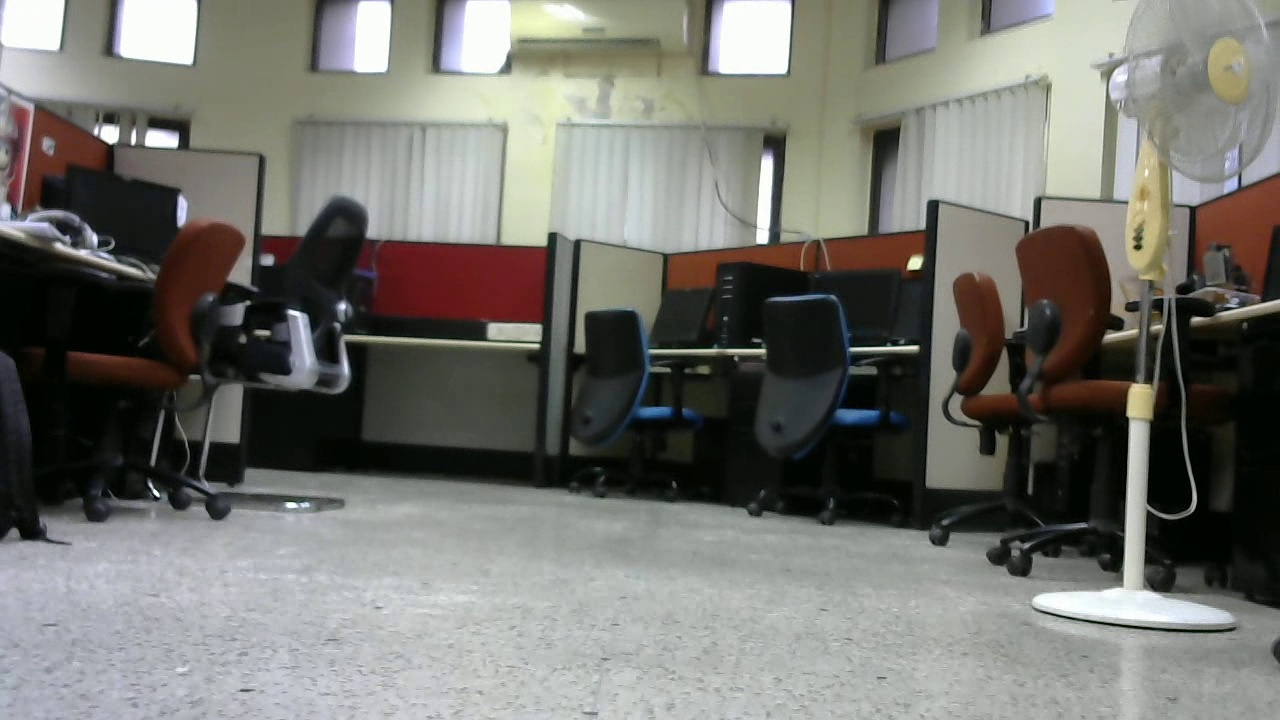chair: (1004, 228, 1201, 581), (71, 219, 236, 521), (238, 194, 379, 511), (739, 291, 903, 527), (941, 266, 1064, 544), (559, 303, 702, 491)
